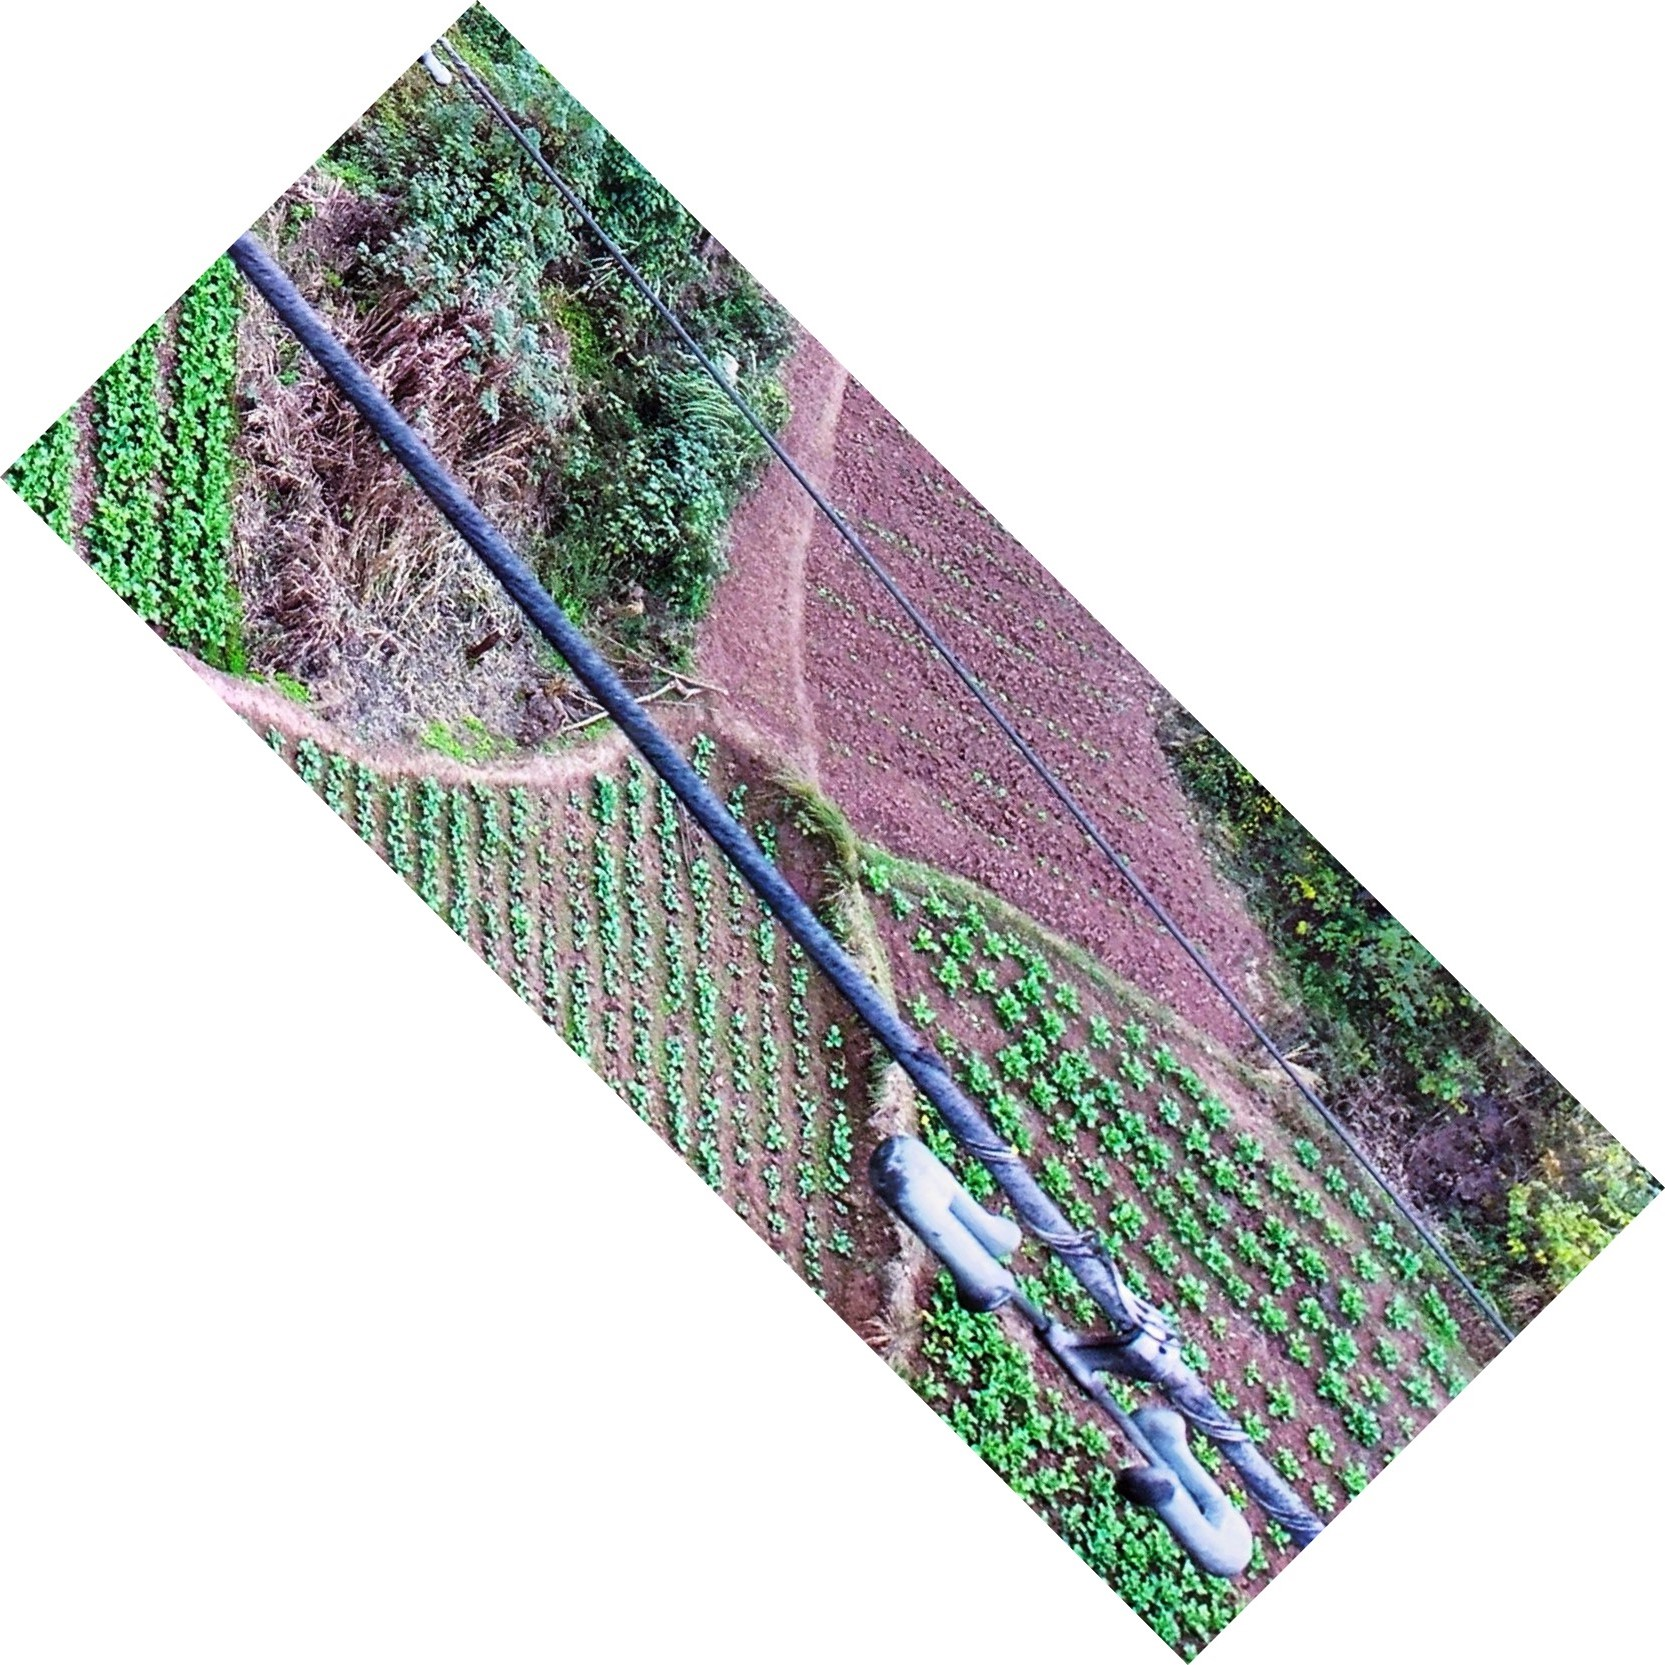Shockproof hammer: (855, 1095, 1269, 1593)
